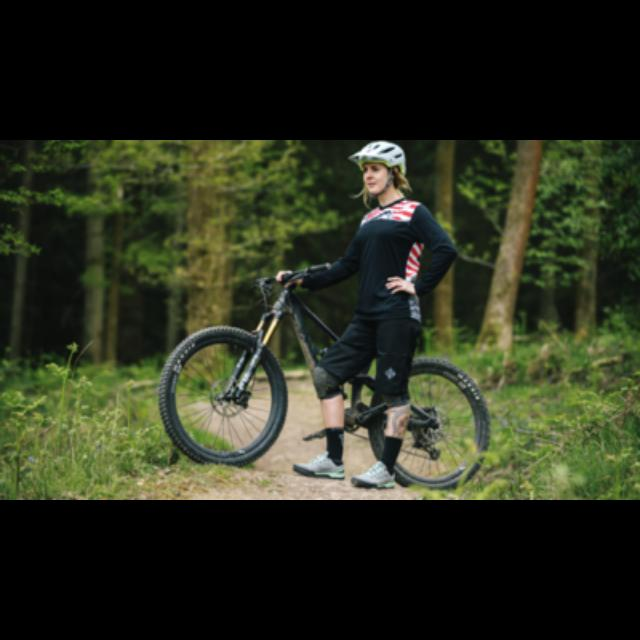With Helmet: (353, 141, 411, 199)
